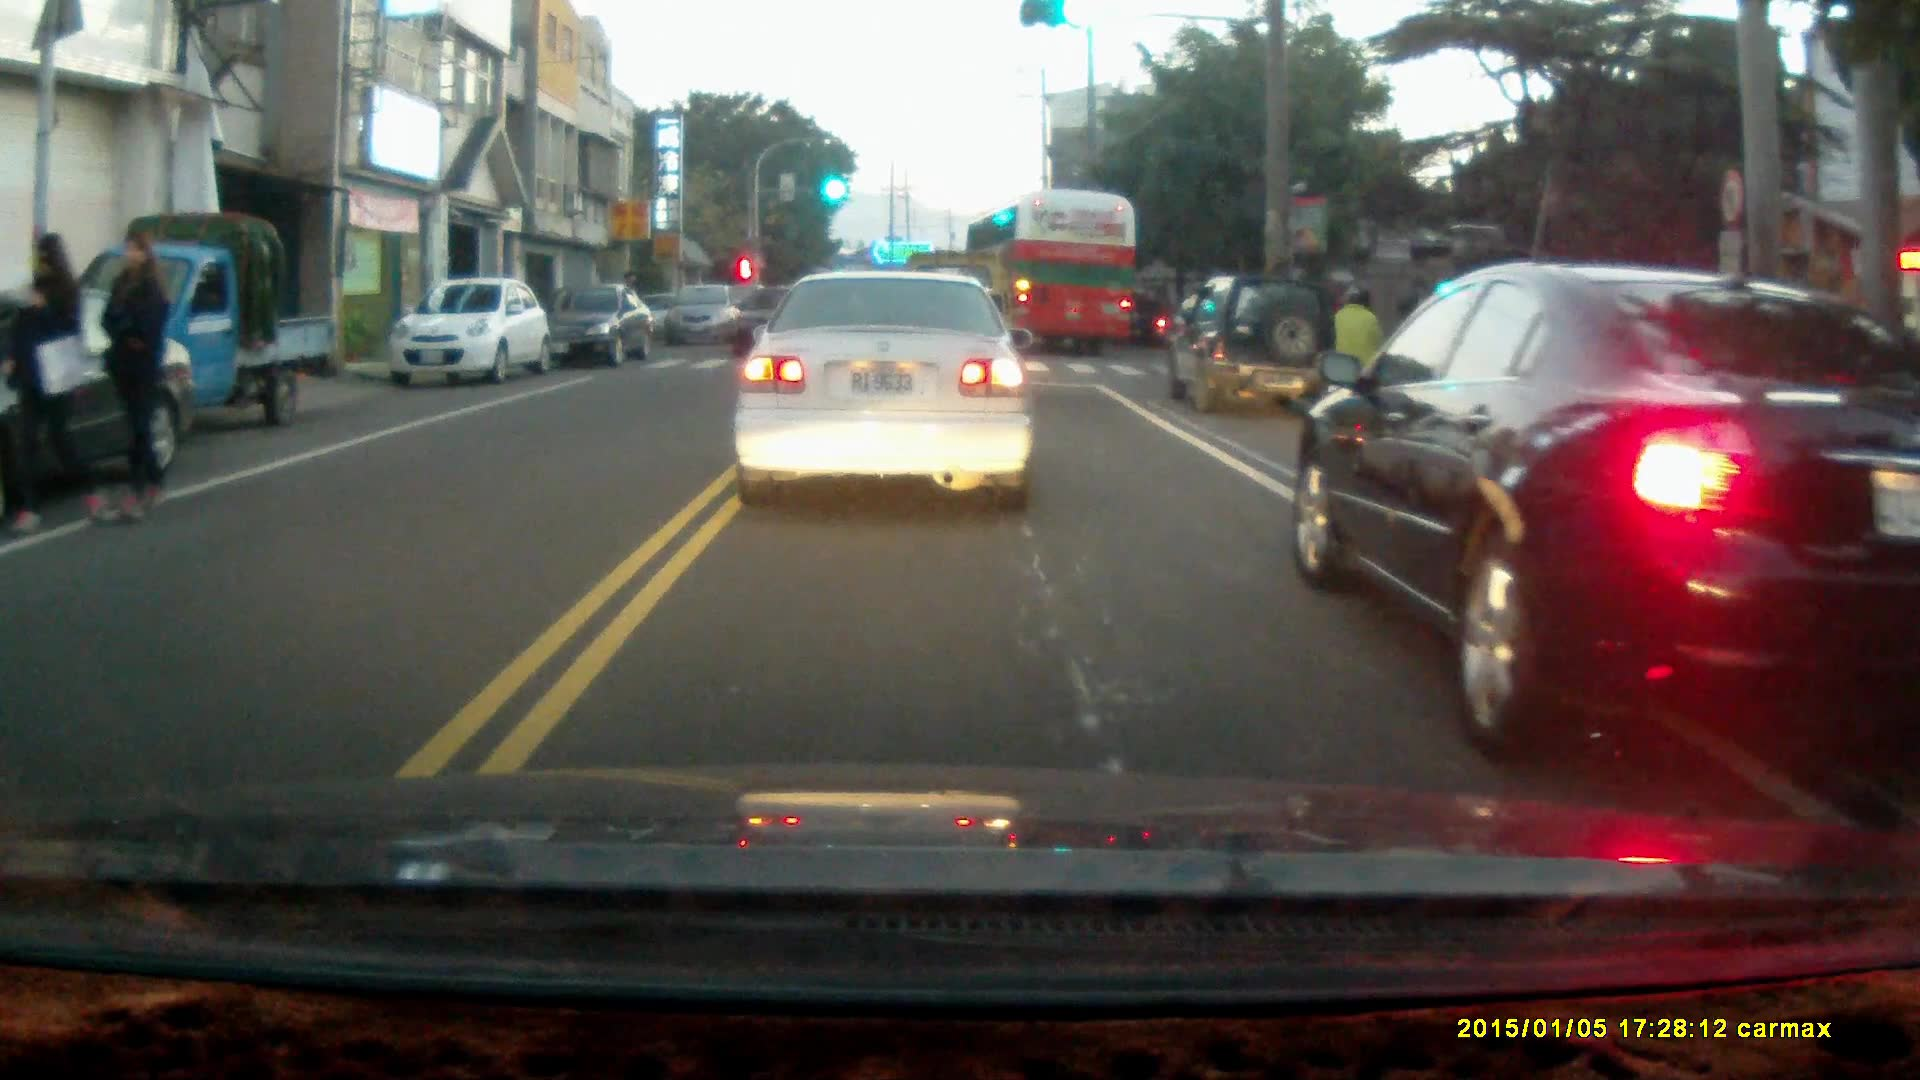pedestrian: (0, 231, 107, 532), (96, 226, 171, 523)
rider: (1325, 283, 1388, 423), (1116, 292, 1170, 349)
vehicle: (1293, 264, 1920, 762), (731, 266, 1036, 516), (74, 213, 331, 430), (1, 284, 196, 515), (963, 192, 1137, 358), (1167, 275, 1343, 420), (389, 280, 546, 388), (544, 281, 660, 370), (659, 286, 744, 354)
